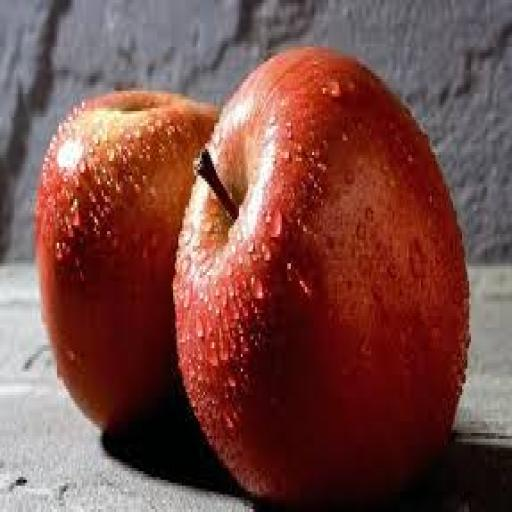apple: (175, 47, 469, 503), (36, 91, 217, 430)
